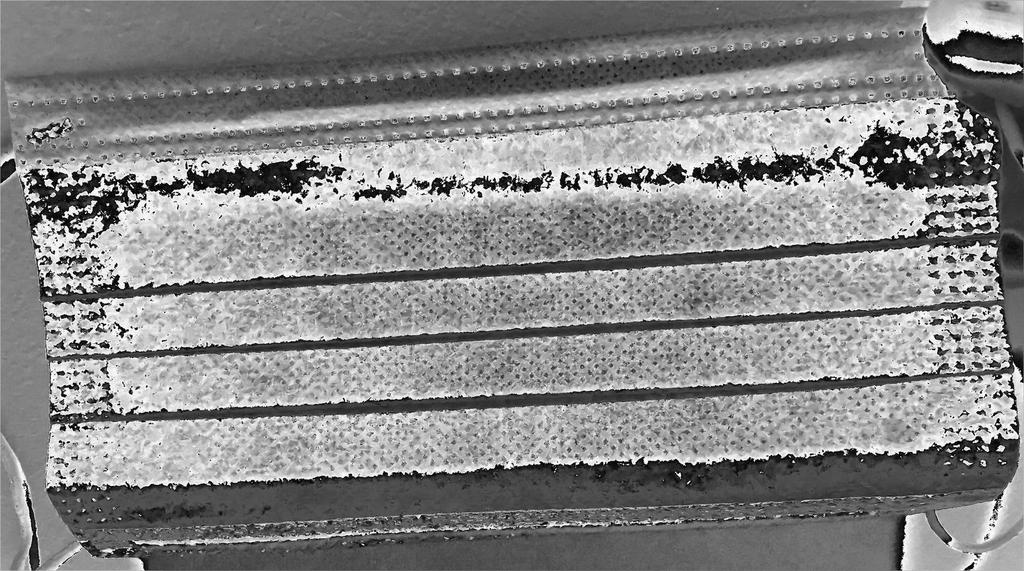High GSM: (22, 99, 1024, 498)
